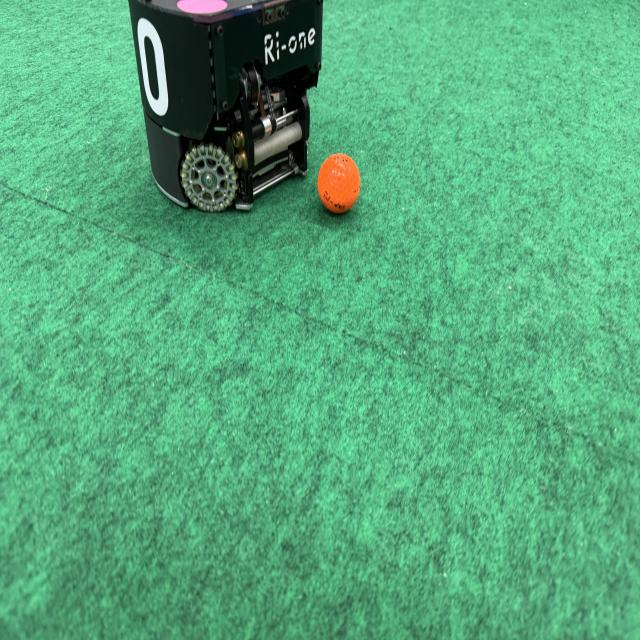ball: (317, 150, 362, 220)
